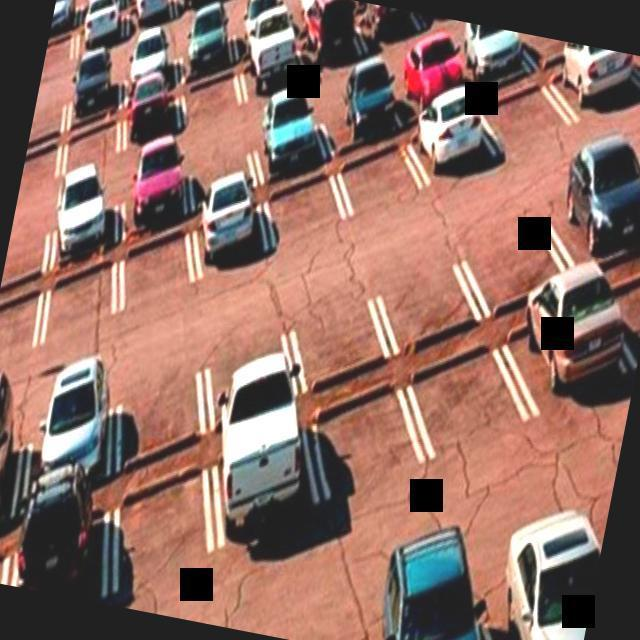car: (202, 390, 337, 542), (509, 269, 616, 420), (465, 531, 601, 640), (362, 555, 516, 640), (10, 372, 123, 486), (11, 498, 125, 604), (560, 145, 640, 274), (187, 180, 284, 270), (406, 94, 496, 180), (240, 6, 312, 110), (249, 108, 333, 188), (551, 41, 640, 116), (116, 72, 182, 170), (446, 21, 532, 92), (328, 79, 408, 155), (392, 40, 478, 108), (116, 168, 196, 235), (46, 188, 122, 256), (298, 0, 366, 74), (168, 18, 240, 84), (126, 33, 190, 101), (68, 52, 124, 128), (0, 413, 32, 542), (354, 2, 418, 55), (125, 0, 179, 39), (81, 0, 129, 41), (48, 0, 81, 44), (174, 0, 229, 22)
free: (306, 357, 438, 512), (405, 319, 526, 481), (99, 479, 213, 601), (373, 243, 492, 354), (284, 278, 396, 390), (458, 217, 566, 323), (194, 320, 300, 418), (115, 349, 210, 457), (116, 222, 202, 340), (254, 168, 348, 272), (38, 245, 118, 366), (178, 52, 245, 146), (337, 149, 414, 226), (488, 83, 562, 160), (0, 291, 45, 397), (58, 120, 126, 186), (182, 146, 254, 206), (0, 228, 60, 298), (18, 143, 60, 201), (40, 28, 76, 90)
